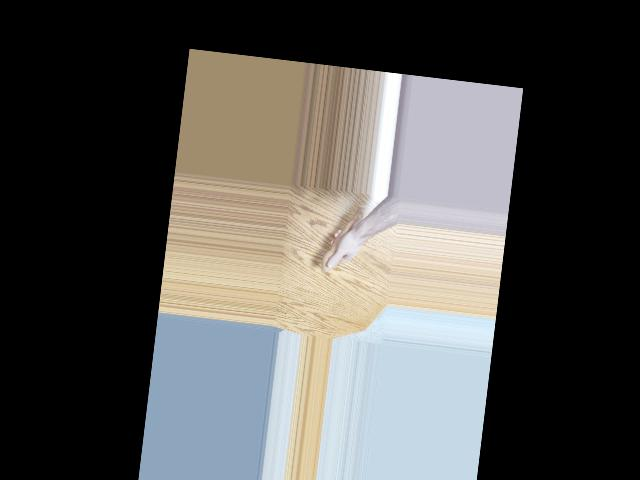sweet_potato: (318, 197, 368, 276)
